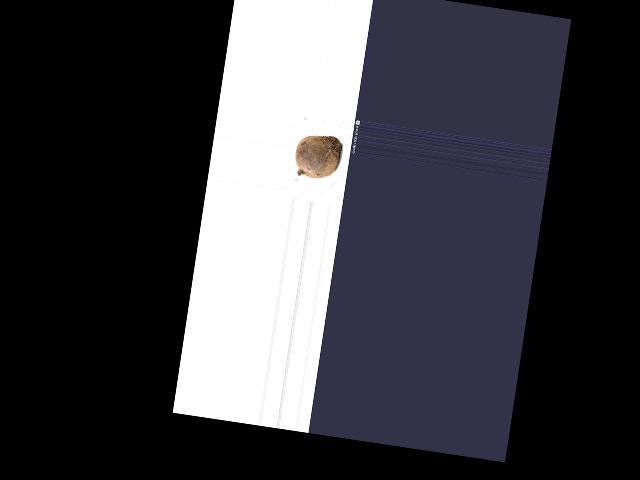beet: (292, 131, 343, 182)
